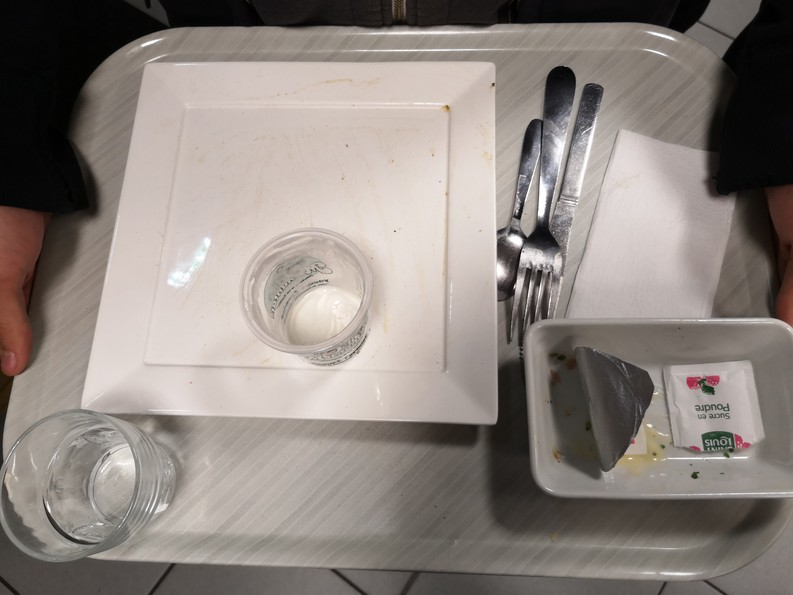cup: (1, 398, 170, 554)
cutlery: (480, 62, 627, 345)
trash: (588, 125, 719, 328), (230, 229, 391, 377), (566, 340, 657, 474), (662, 357, 767, 466)
